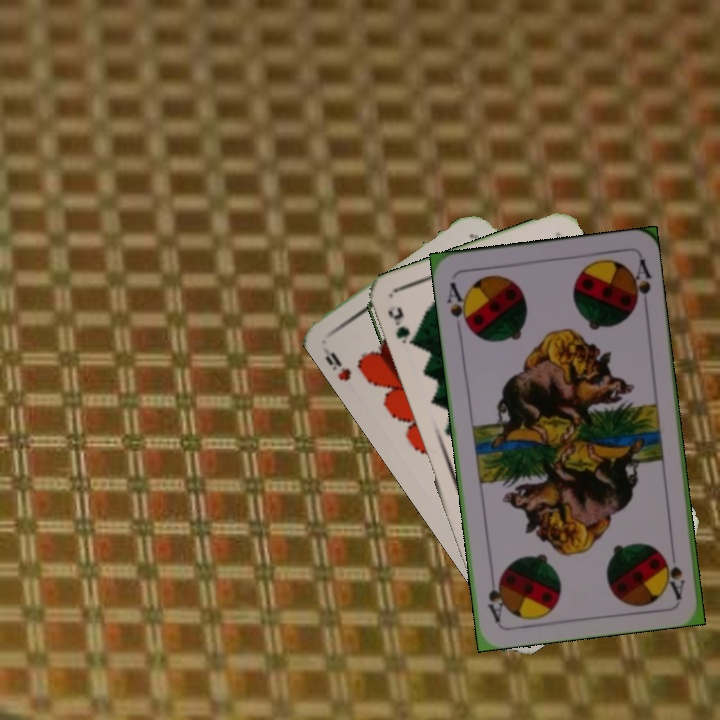G9: (383, 302, 418, 349)
H9: (320, 348, 354, 384)
SA: (443, 278, 473, 334), (661, 552, 687, 601)
